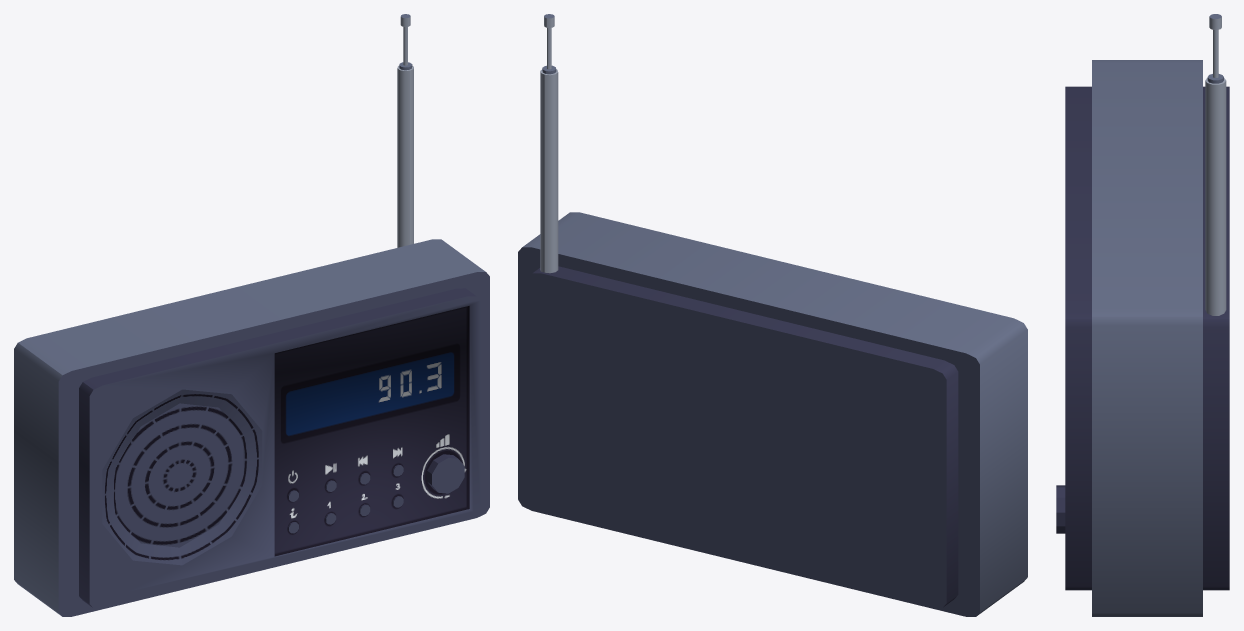
File: f_radio.fbx
3 renders of one model, left to right at view 1: azimuth 30°, elevation 25°; view 2: azimuth 150°, elevation 25°; view 3: azimuth 270°, elevation 25°, orthographic. The views are drawn at different scales.
Visible parts, largest first — view 1: f_radio; view 2: f_radio; view 3: f_radio.
Boxes of the visible parts, x1,y1,x2,y2 form: f_radio: (14, 14, 489, 616); f_radio: (518, 14, 1027, 616); f_radio: (1056, 14, 1229, 616).
Bounding box in the file's own units: 0.5972 × 0.1675 × 0.6232.
